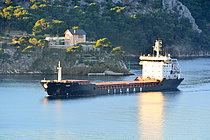Ship: (37, 35, 188, 102)
